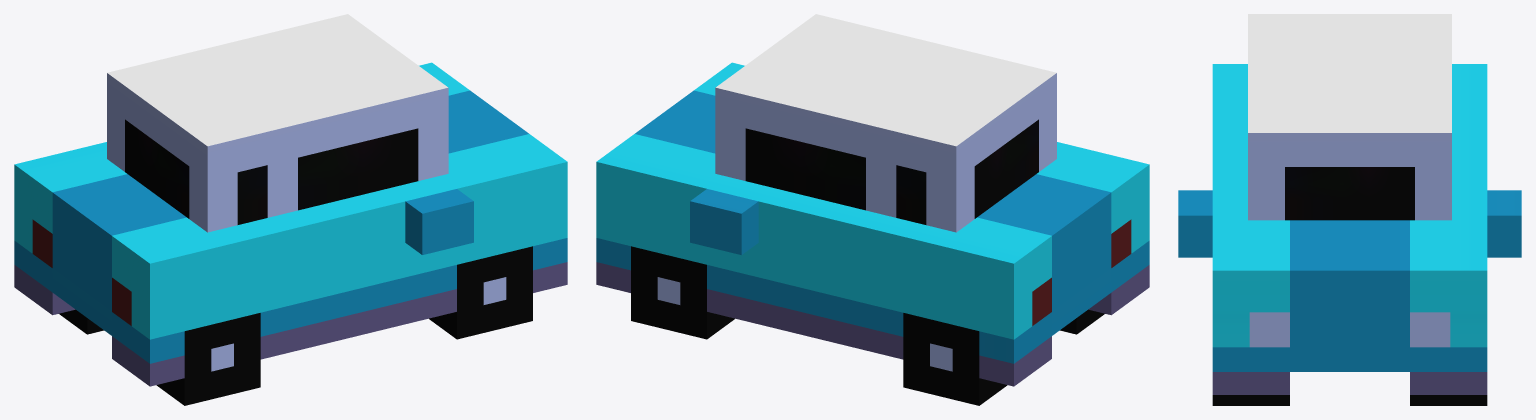
The model's file is car.FBX.
3 renders of one model, left to right at view 1: azimuth 30°, elevation 25°; view 2: azimuth 150°, elevation 25°; view 3: azimuth 270°, elevation 25°, orthographic.
Parts seen in each view (by area): view 1: car01; view 2: car01; view 3: car01.
Boxes of the visible parts, x1=… form: car01: x1=14, y1=14, x2=567, y2=405; car01: x1=596, y1=14, x2=1149, y2=405; car01: x1=1178, y1=14, x2=1521, y2=405.
Size of the model in its own units: 270 by 146 by 190.
